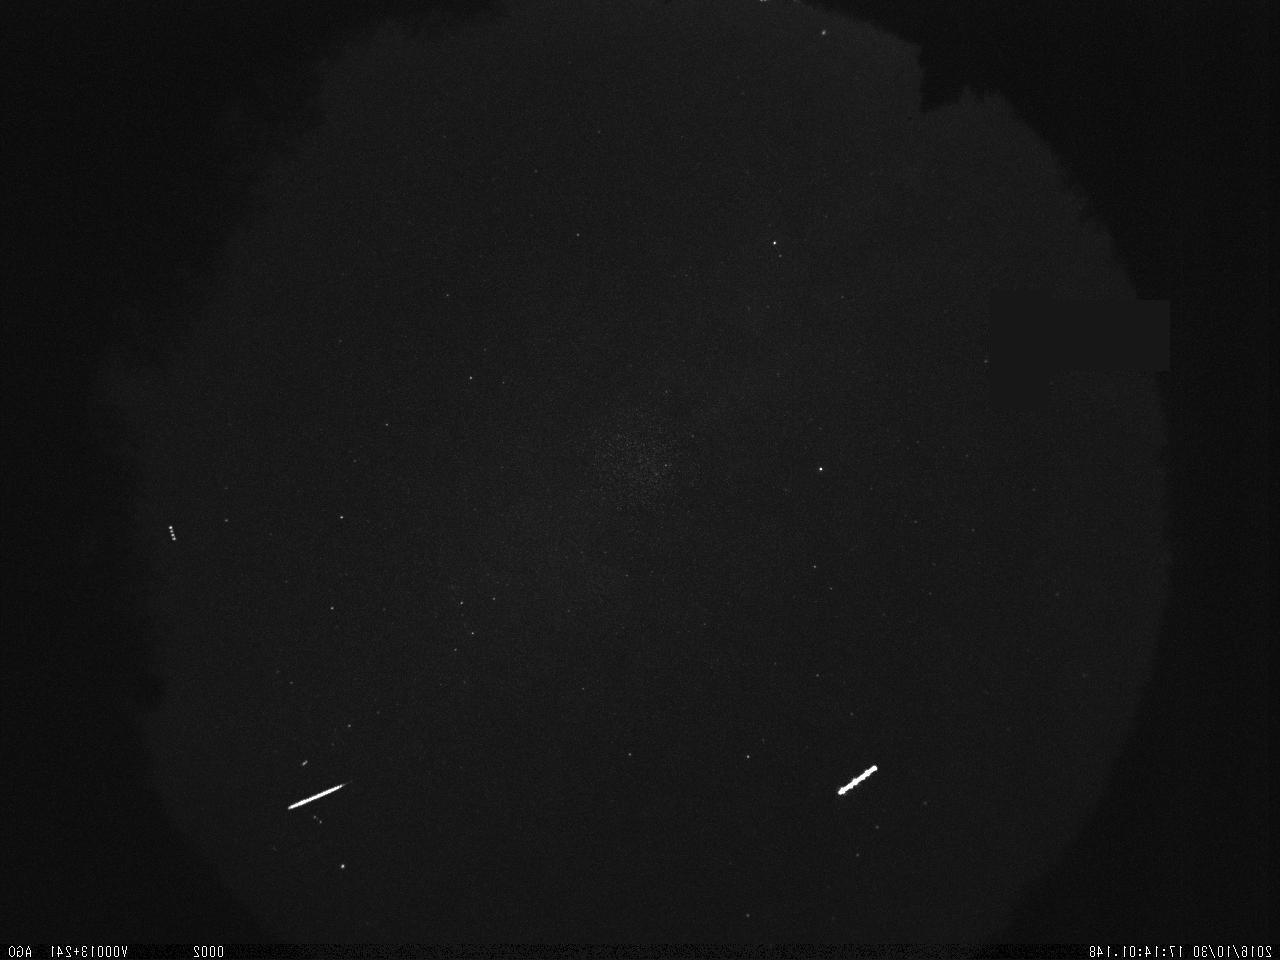meteor: (280, 769, 355, 821)
satelite: (829, 757, 884, 806), (162, 520, 183, 550)
